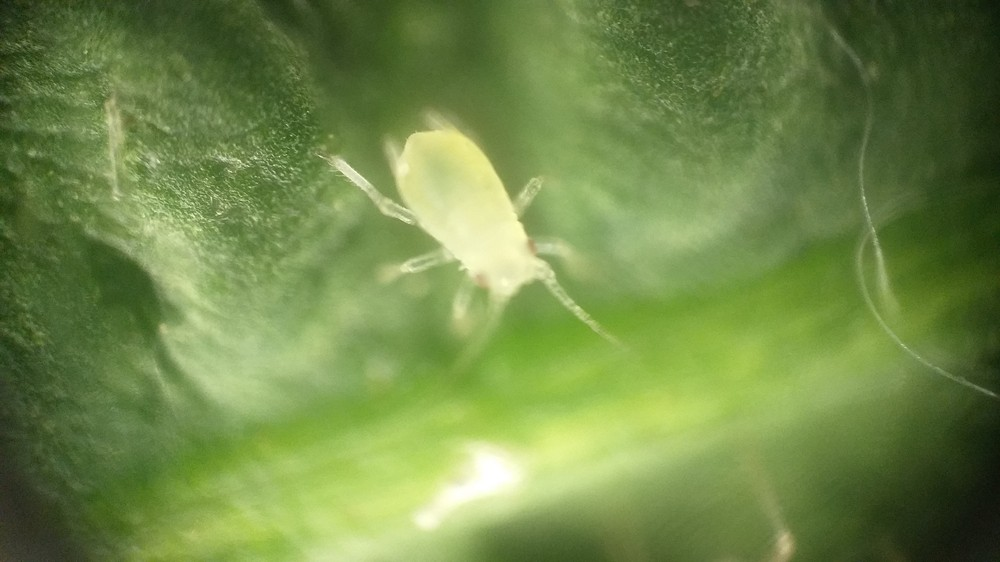Pulgon: (314, 97, 666, 409)
